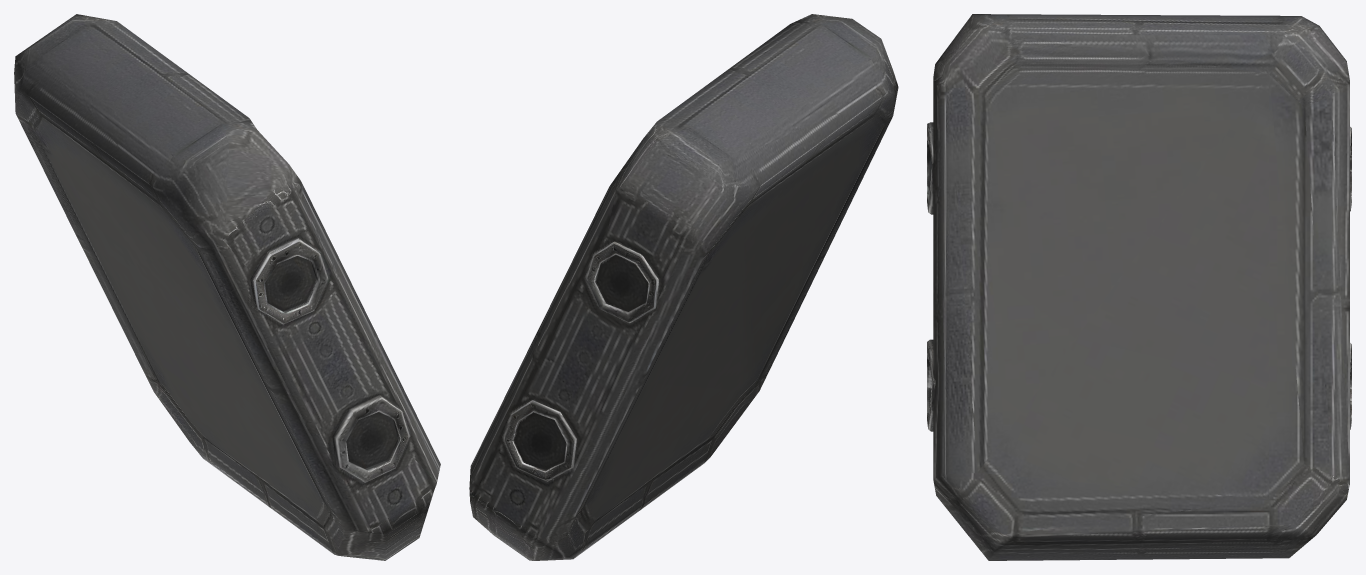
The model's file is cold-iron-v2-panel-a-slab.glb.
3 renders of one model, left to right at view 1: azimuth 30°, elevation 25°; view 2: azimuth 150°, elevation 25°; view 3: azimuth 270°, elevation 25°, orthographic.
Parts seen in each view (by area): view 1: tripo_node_5e4a6ed2-723b-4eb2-a01f-53e9e0ead0c6; view 2: tripo_node_5e4a6ed2-723b-4eb2-a01f-53e9e0ead0c6; view 3: tripo_node_5e4a6ed2-723b-4eb2-a01f-53e9e0ead0c6.
Part boxes in pixels (bbox=[...]): tripo_node_5e4a6ed2-723b-4eb2-a01f-53e9e0ead0c6: bbox=[14, 14, 440, 560]; tripo_node_5e4a6ed2-723b-4eb2-a01f-53e9e0ead0c6: bbox=[469, 14, 898, 560]; tripo_node_5e4a6ed2-723b-4eb2-a01f-53e9e0ead0c6: bbox=[927, 14, 1351, 560].
Bounding box in the file's own units: 0.6191 × 0.998 × 0.8223.
Materials: 1 (1 with a texture image).
